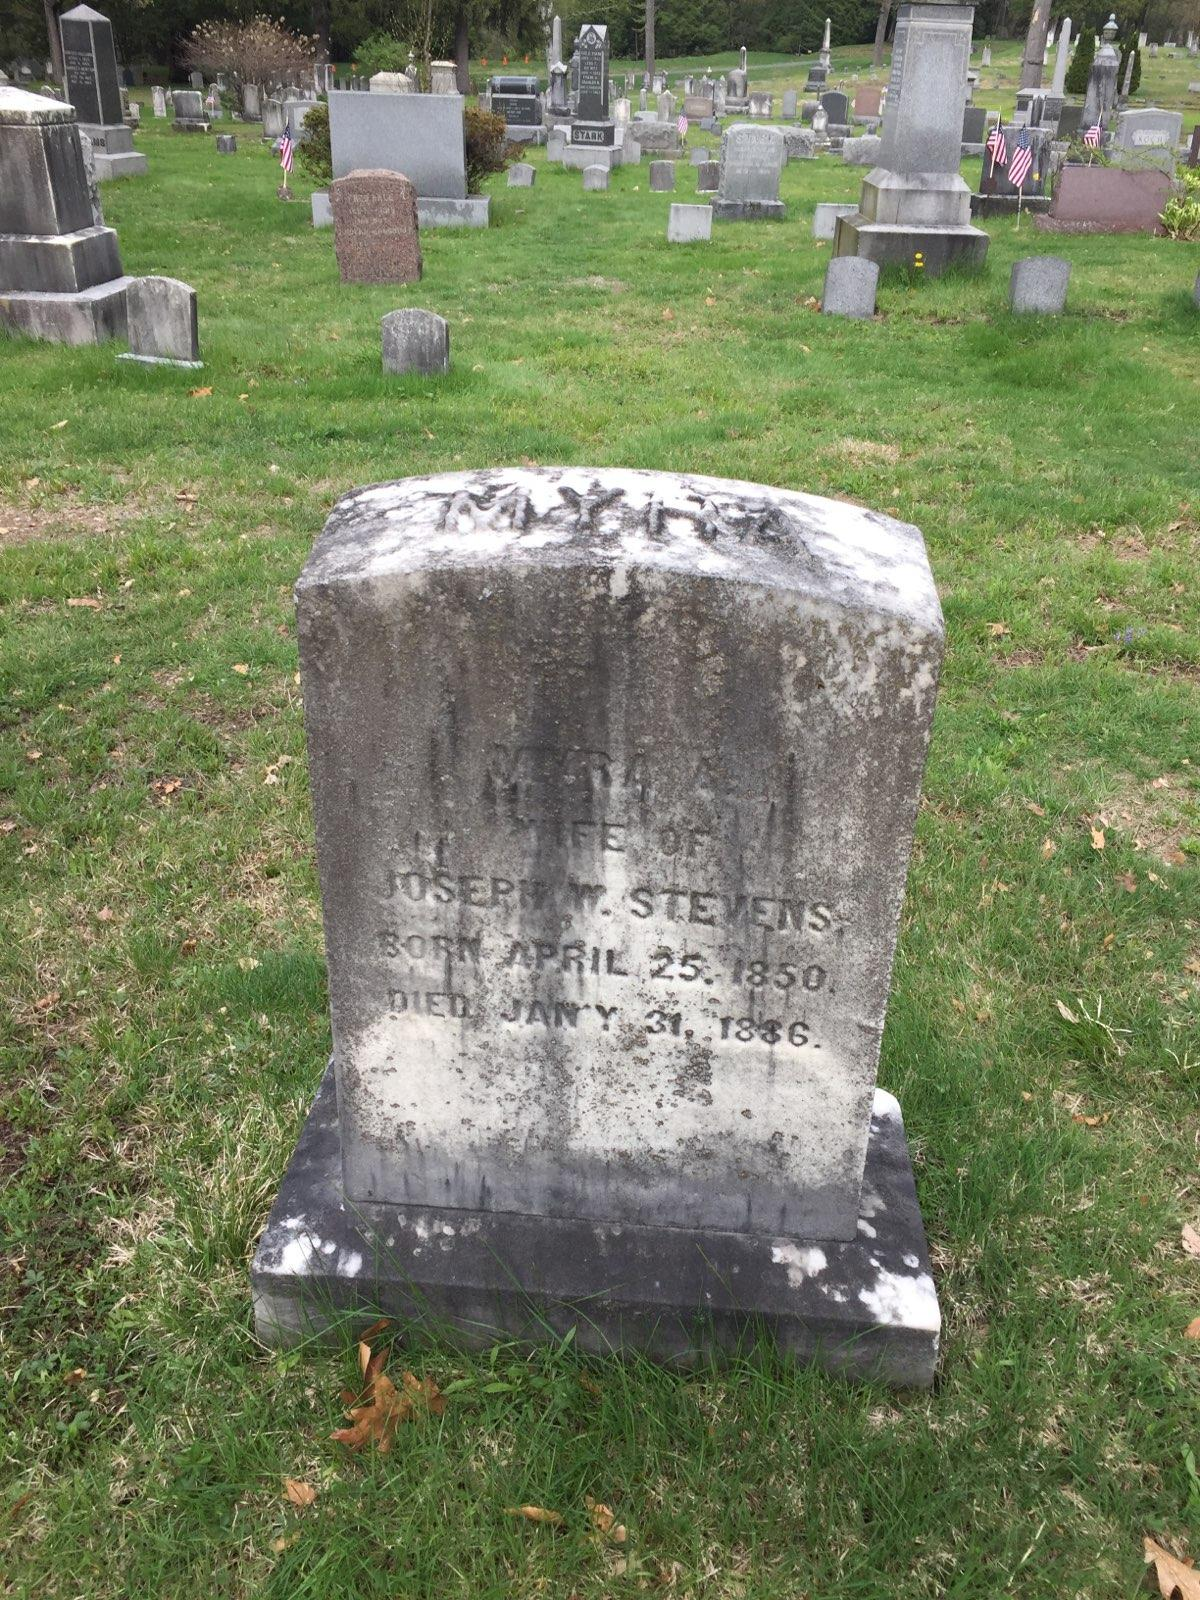upright: (301, 469, 942, 1249)
